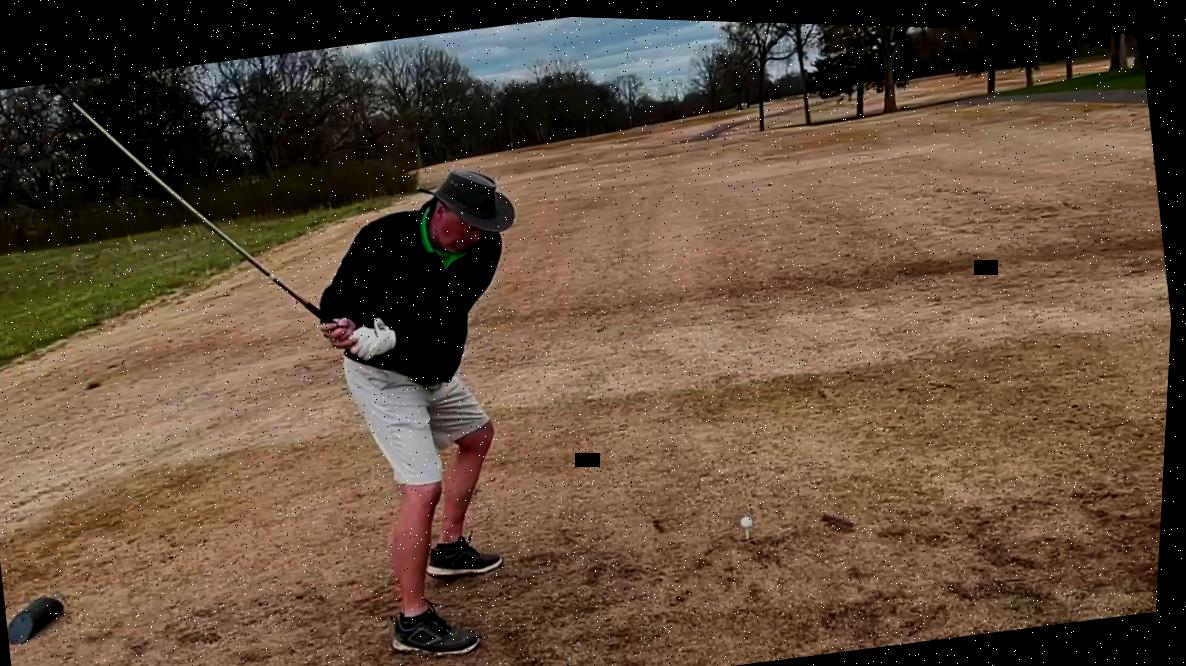ClubHead: (34, 77, 88, 114)
GolfBall: (741, 507, 762, 527)
